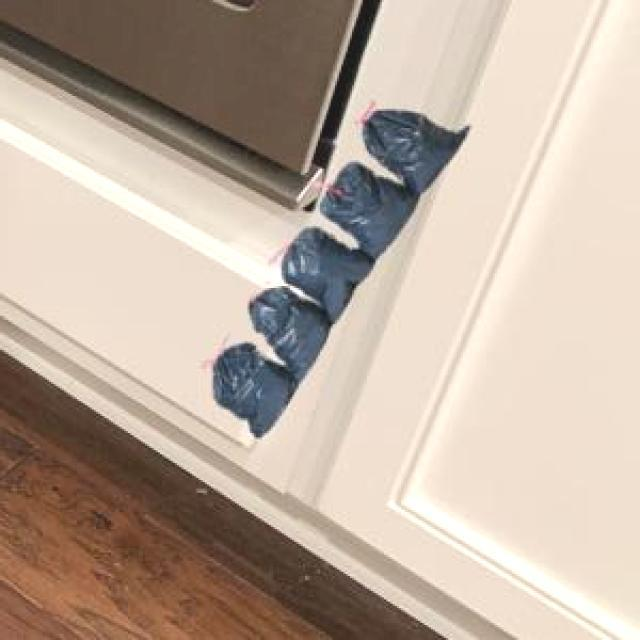Trashbag: (371, 104, 458, 178), (333, 166, 415, 242), (215, 352, 295, 428), (294, 230, 361, 302), (259, 293, 324, 357)
